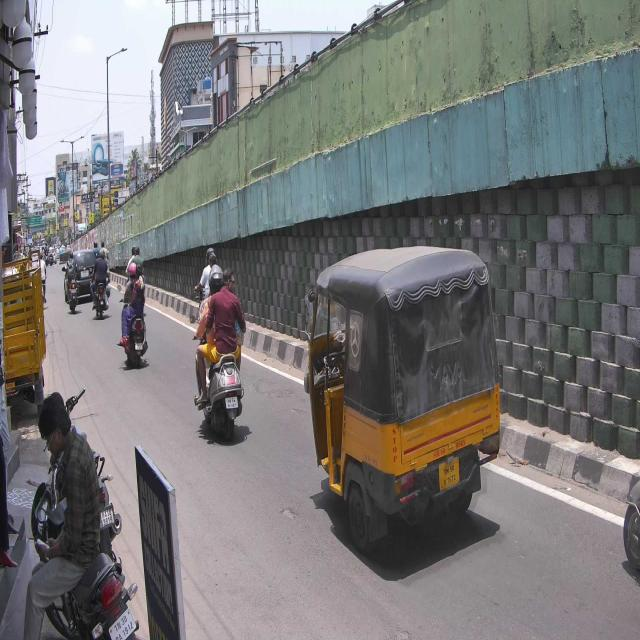double_rider: (188, 264, 248, 444)
